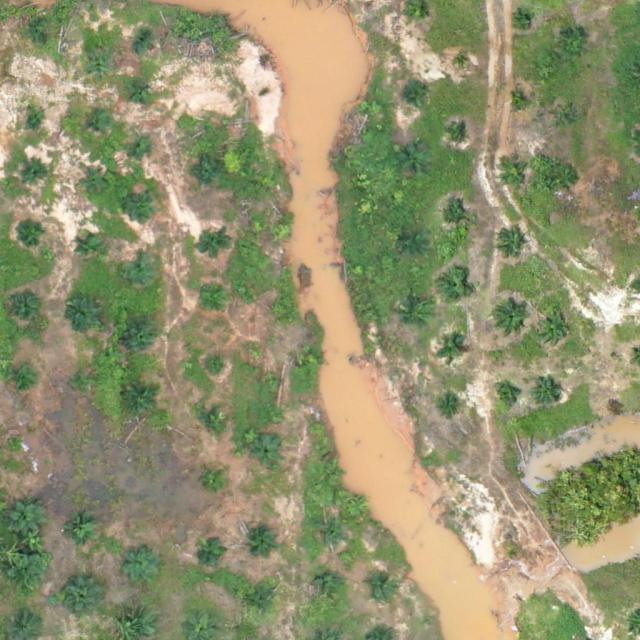Grass: (7, 500, 47, 539), (9, 555, 48, 595), (193, 159, 224, 190)
Small: (62, 294, 102, 334), (63, 577, 103, 617), (122, 547, 161, 587), (123, 254, 162, 294), (493, 298, 532, 338), (534, 310, 574, 349), (61, 515, 100, 554), (128, 321, 159, 353), (127, 386, 158, 418), (553, 163, 584, 195), (196, 406, 227, 438), (499, 159, 530, 191), (10, 292, 41, 324), (18, 218, 49, 250), (128, 191, 159, 222), (249, 523, 280, 554), (198, 539, 229, 570), (316, 520, 347, 551), (253, 438, 284, 469), (313, 573, 344, 604), (367, 573, 398, 604), (247, 588, 278, 619), (441, 204, 472, 235), (440, 272, 471, 303), (496, 230, 527, 261), (533, 378, 564, 409), (199, 231, 230, 262), (198, 287, 229, 318), (558, 31, 589, 62), (400, 146, 431, 177), (401, 303, 432, 334), (320, 462, 344, 486), (203, 469, 227, 493), (439, 337, 463, 361), (440, 394, 464, 418), (494, 384, 518, 408), (260, 369, 284, 393), (267, 299, 291, 323), (270, 220, 294, 244), (402, 84, 426, 108), (27, 107, 51, 131), (132, 133, 156, 157), (132, 79, 156, 103), (131, 32, 155, 56), (12, 367, 36, 391), (301, 345, 324, 369), (555, 108, 579, 131), (403, 233, 426, 257), (24, 159, 48, 182), (34, 32, 57, 56), (87, 55, 110, 79), (90, 112, 113, 136), (84, 172, 107, 196), (72, 370, 95, 394), (204, 358, 227, 381), (78, 238, 101, 261), (510, 94, 526, 110), (455, 56, 471, 72), (452, 126, 467, 142), (515, 13, 530, 28)
